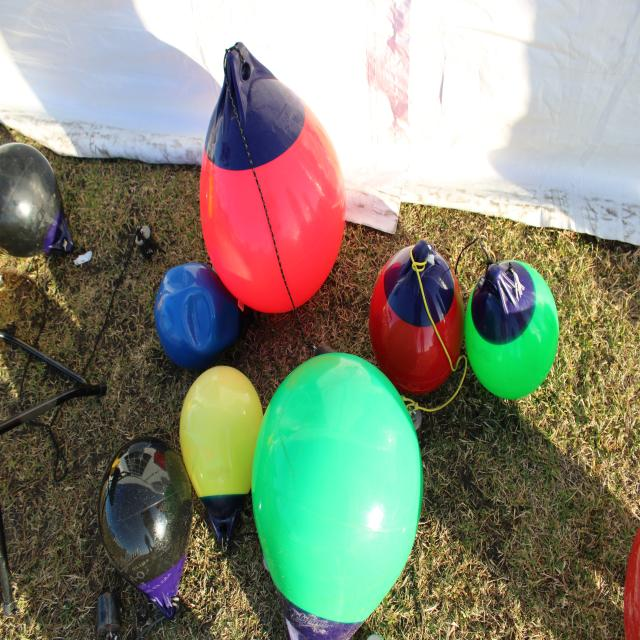black-buoy: (102, 426, 194, 616), (0, 138, 69, 276)
blue-buoy: (155, 262, 242, 368)
green-buoy: (245, 349, 430, 627), (464, 242, 561, 408)
red-buoy: (193, 30, 358, 323), (373, 227, 462, 406), (618, 493, 640, 640)
yellow-buoy: (176, 362, 267, 502)
